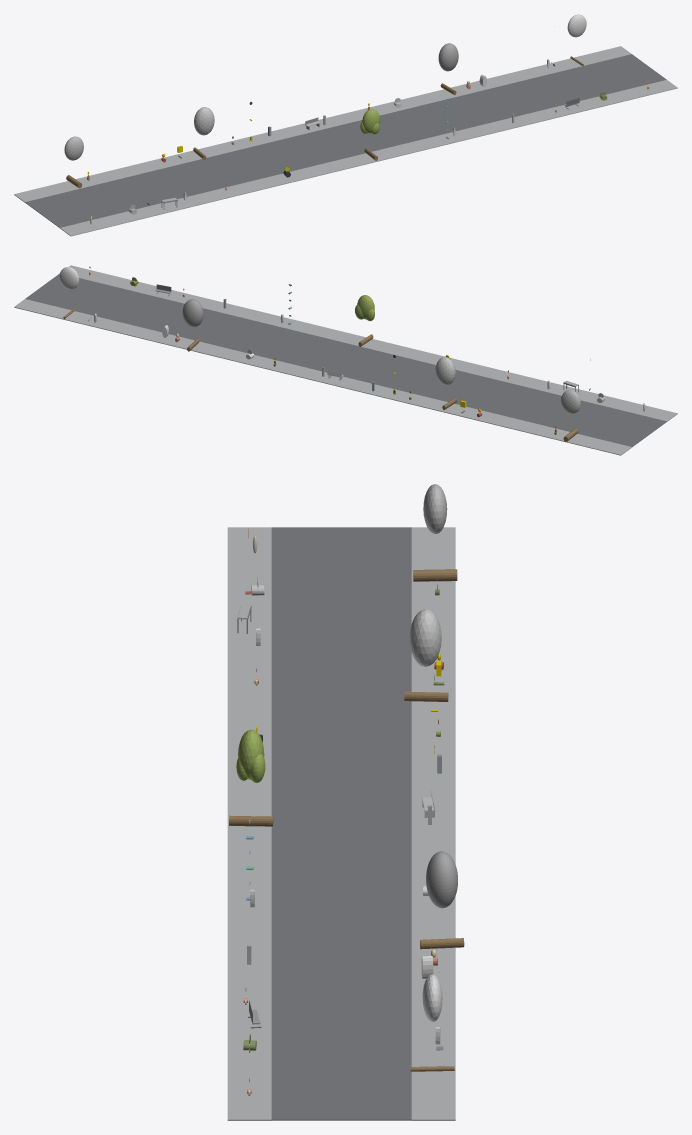
The picture shows the model from 3 angles, top to bottom: view 1: azimuth 30°, elevation 25°; view 2: azimuth 150°, elevation 25°; view 3: azimuth 270°, elevation 25°; orthographic projection. The views are drawn at different scales.
Parts seen in each view (by area): view 1: road_slab, sidewalk_left, sidewalk_right, inst_0013, inst_0015, inst_0014, inst_0012, inst_0016; view 2: road_slab, sidewalk_right, sidewalk_left, inst_0013, inst_0015, inst_0014, inst_0012, inst_0016; view 3: road_slab, sidewalk_left, sidewalk_right, inst_0013, inst_0015, inst_0014, inst_0012, inst_0016.
Part boxes in pixels (left/top/right/bottom): road_slab: left=25, top=54, right=666, bottom=227; sidewalk_left: left=60, top=80, right=677, bottom=236; sidewalk_right: left=14, top=46, right=631, bottom=202; inst_0013: left=193, top=107, right=214, bottom=159; inst_0015: left=438, top=43, right=458, bottom=95; inst_0014: left=360, top=109, right=380, bottom=160; inst_0012: left=64, top=136, right=83, bottom=188; inst_0016: left=567, top=14, right=586, bottom=66; road_slab: left=25, top=273, right=666, bottom=447; sidewalk_right: left=14, top=299, right=631, bottom=455; sidewalk_left: left=69, top=265, right=677, bottom=421; inst_0013: left=435, top=357, right=457, bottom=409; inst_0015: left=182, top=299, right=203, bottom=351; inst_0014: left=355, top=295, right=374, bottom=346; inst_0012: left=561, top=390, right=580, bottom=441; inst_0016: left=59, top=267, right=79, bottom=318; road_slab: left=271, top=527, right=411, bottom=1120; sidewalk_left: left=227, top=527, right=271, bottom=1120; sidewalk_right: left=411, top=527, right=455, bottom=1120; inst_0013: left=404, top=609, right=448, bottom=701; inst_0015: left=420, top=851, right=464, bottom=949; inst_0014: left=229, top=729, right=273, bottom=826; inst_0012: left=413, top=484, right=457, bottom=581; inst_0016: left=410, top=974, right=454, bottom=1071.
Size of the model in its own units: 80 by 6.08 by 13.49.
